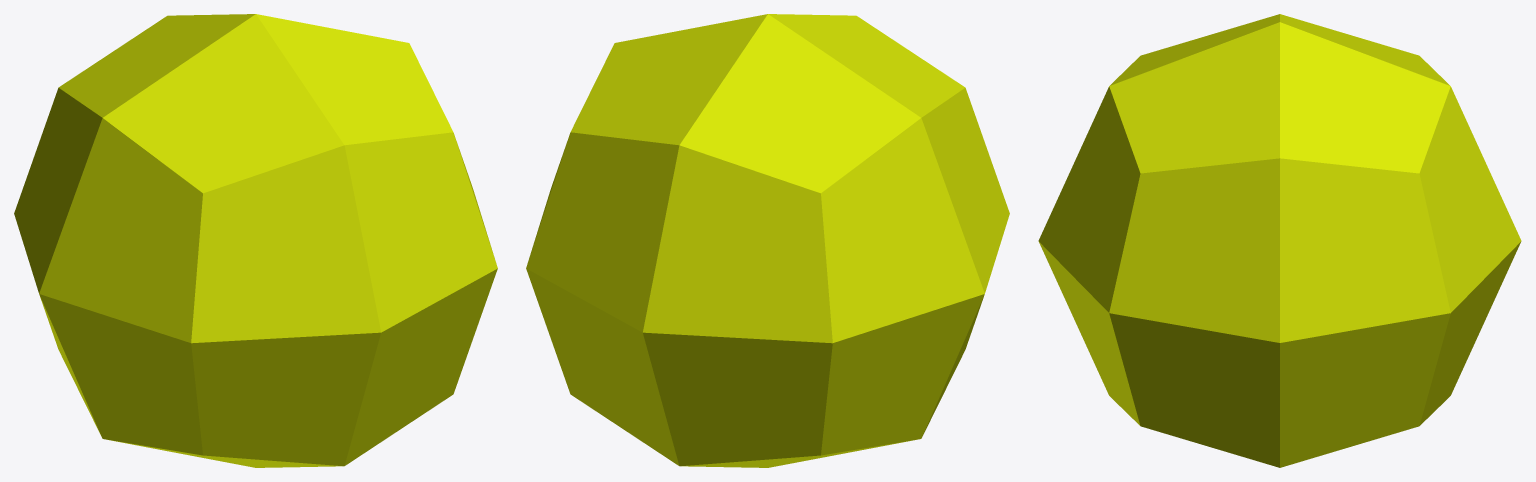
Rendered from fat.fbx.
3 renders of one model, left to right at view 1: azimuth 30°, elevation 25°; view 2: azimuth 150°, elevation 25°; view 3: azimuth 270°, elevation 25°, orthographic. The views are drawn at different scales.
Parts seen in each view (by area): view 1: Quad Sphere; view 2: Quad Sphere; view 3: Quad Sphere.
Part boxes in pixels (x1,y1,x2,y2): Quad Sphere: [14, 14, 497, 467]; Quad Sphere: [526, 14, 1009, 467]; Quad Sphere: [1038, 14, 1521, 467].
Bounding box in the file's own units: 257 × 257 × 257.
